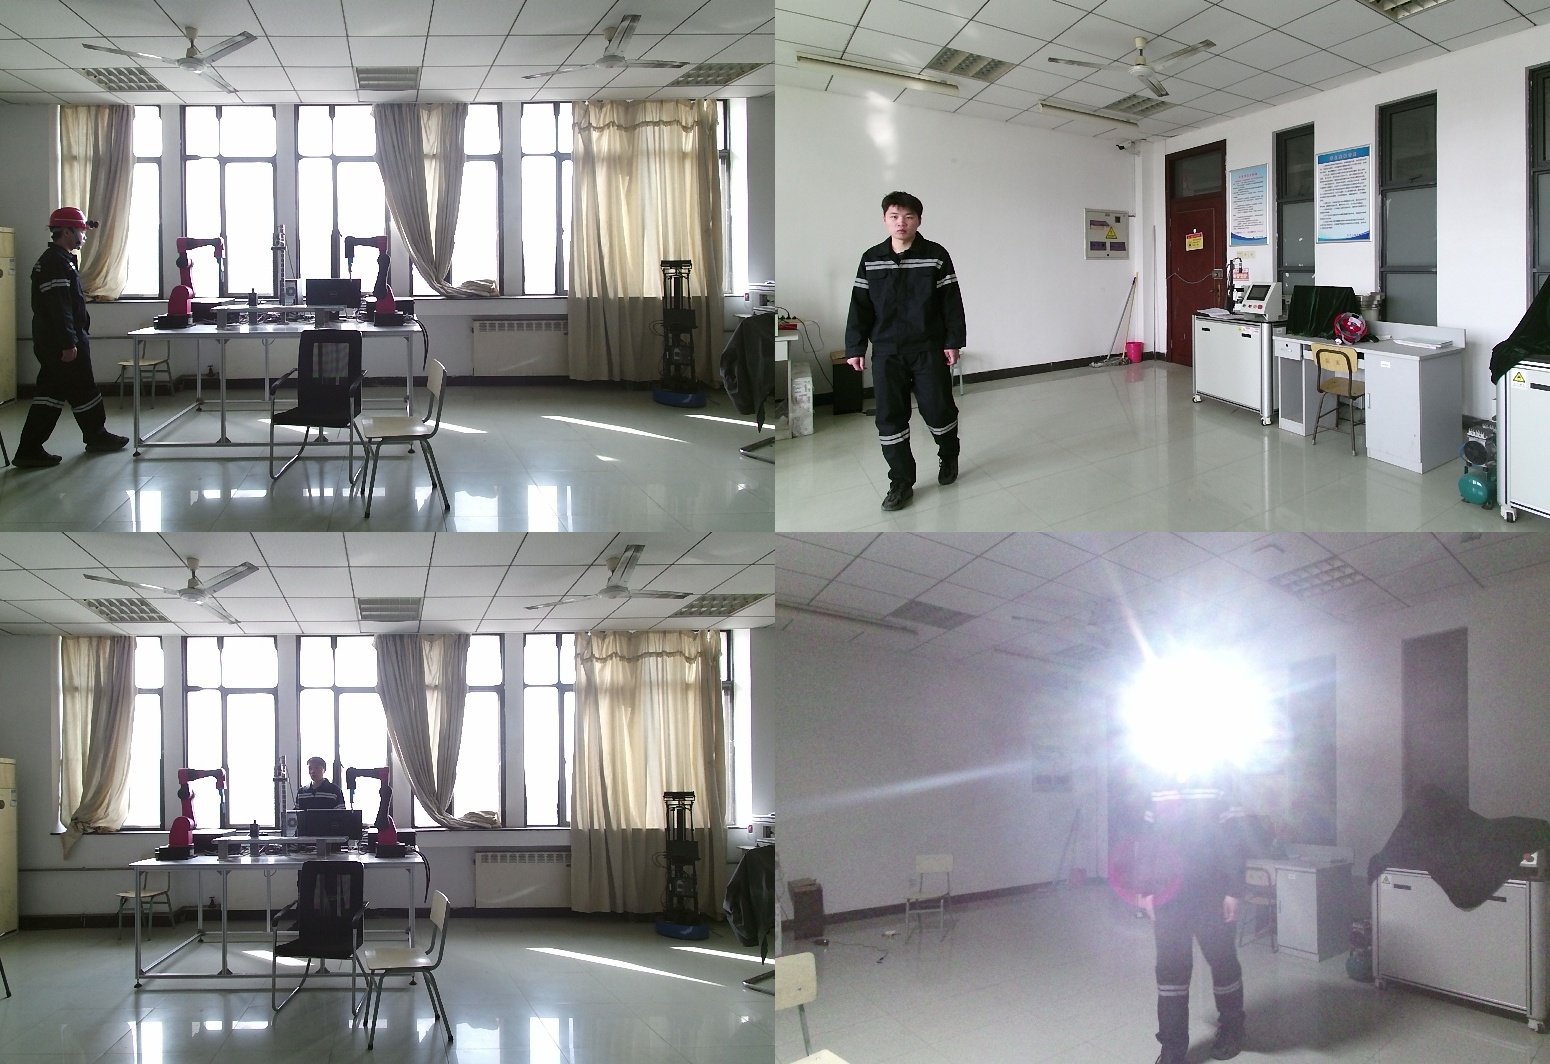person: (1145, 705, 1274, 1064), (845, 194, 969, 512), (12, 207, 130, 467), (288, 759, 358, 839)
